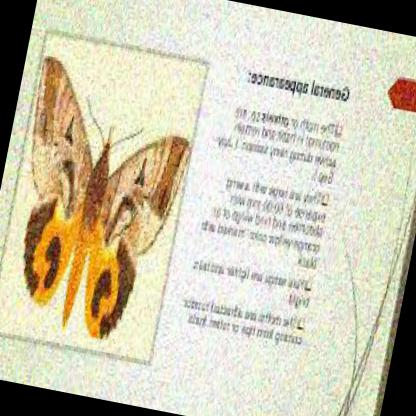fruit sucking moth: (22, 61, 191, 336)
